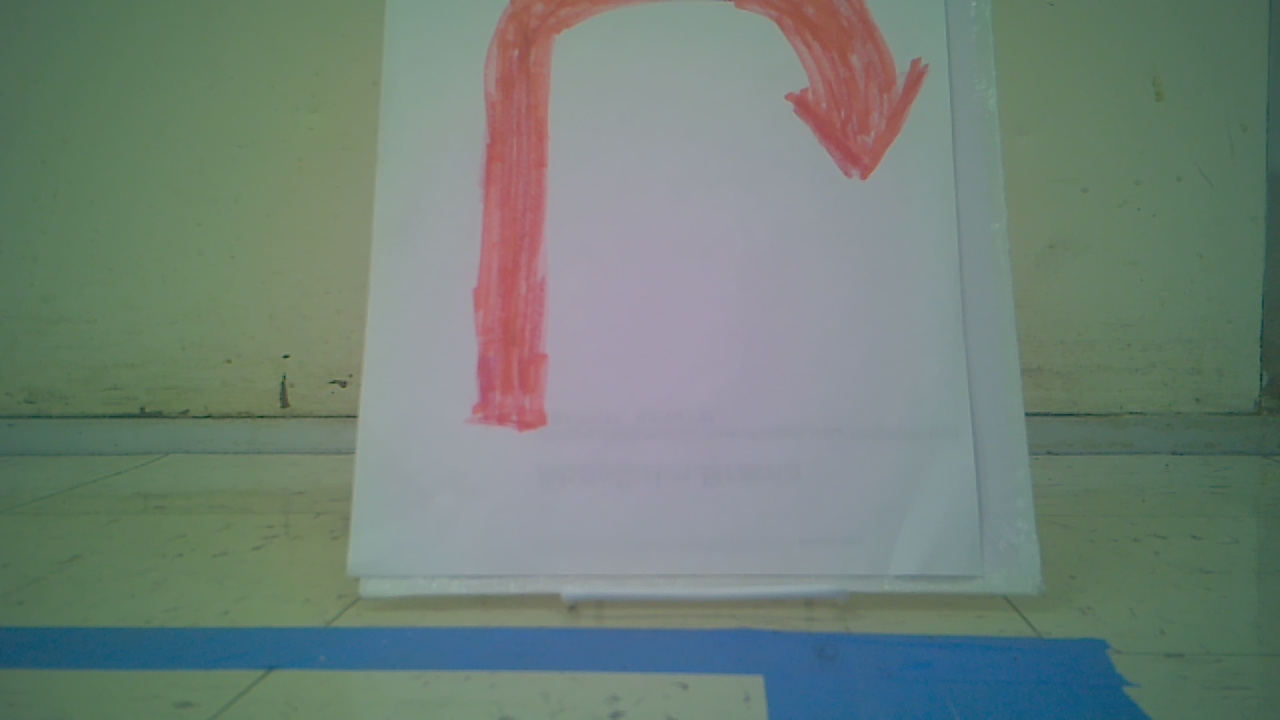uturn: (475, 0, 927, 429)
